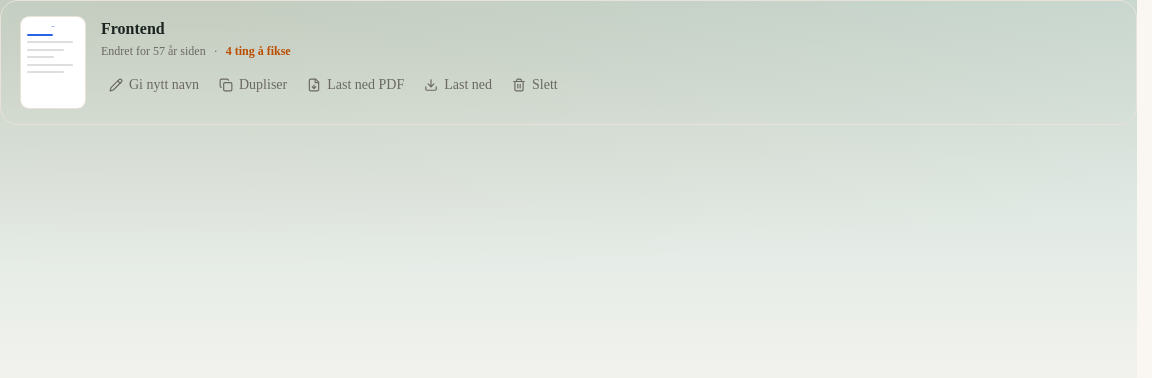
CvCard › asks before deleting
Click the button "Slett" at (535, 85), box [504, 71, 566, 99]
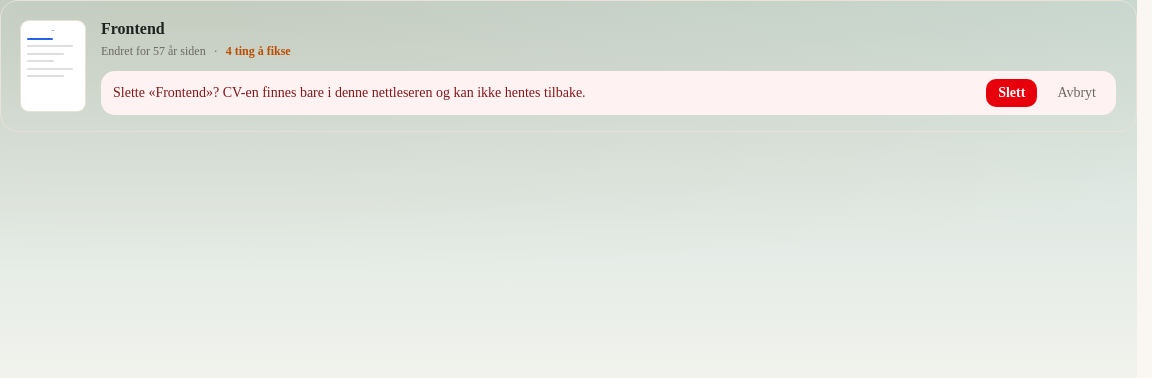
expect the text "Slette «Frontend»? CV-en finnes bare i denne nettleseren og kan ikke hentes tilbake." is shown: met, box [113, 85, 586, 100]
